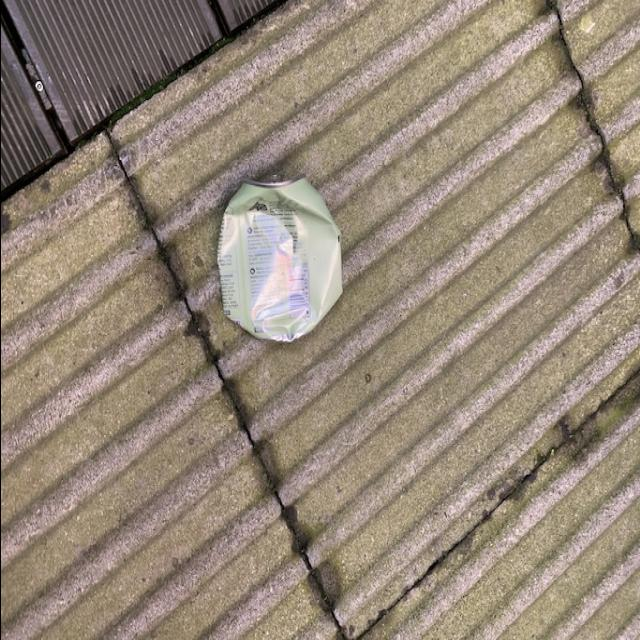litter: (215, 176, 345, 350)
